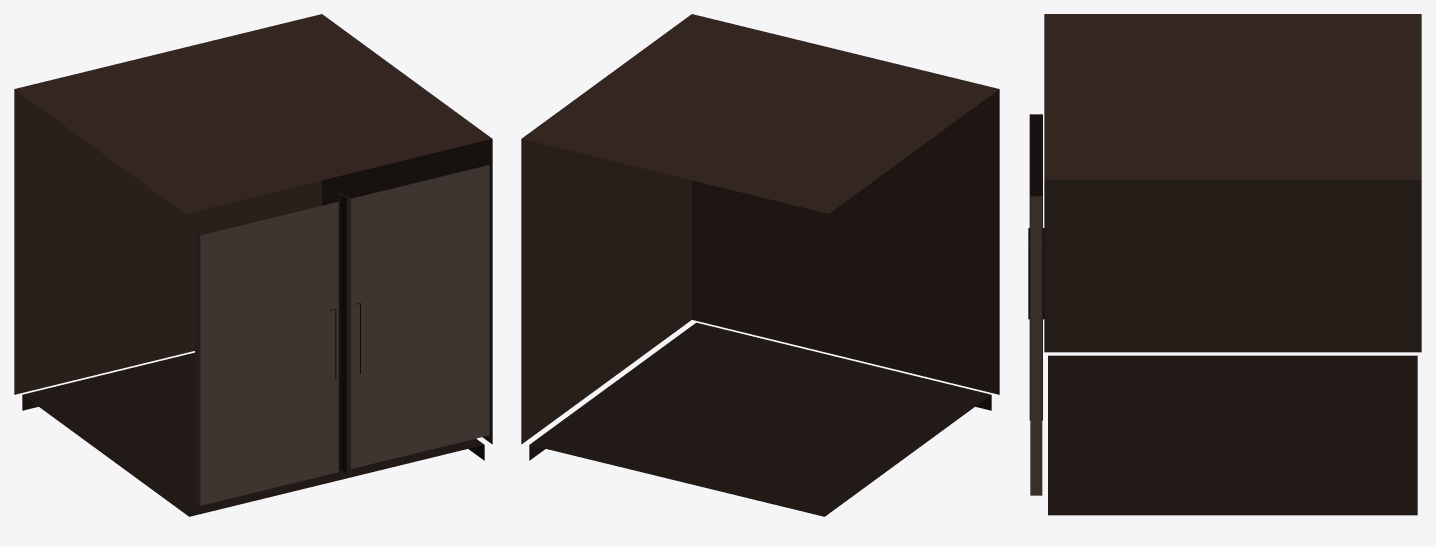
The model's file is Wardrobe-espresso.glb.
3 views of the same model, side by side, from view 1: azimuth 30°, elevation 25°; view 2: azimuth 150°, elevation 25°; view 3: azimuth 270°, elevation 25° (orthographic). The views are drawn at different scales.
Visible parts, largest first — view 1: Wardrobe; view 2: Wardrobe; view 3: Wardrobe.
Boxes of the visible parts, bbox=[...] form: Wardrobe: bbox=[14, 14, 492, 516]; Wardrobe: bbox=[521, 14, 999, 516]; Wardrobe: bbox=[1028, 14, 1421, 515].
Bounding box in the file's own units: 1 × 1 × 1.
